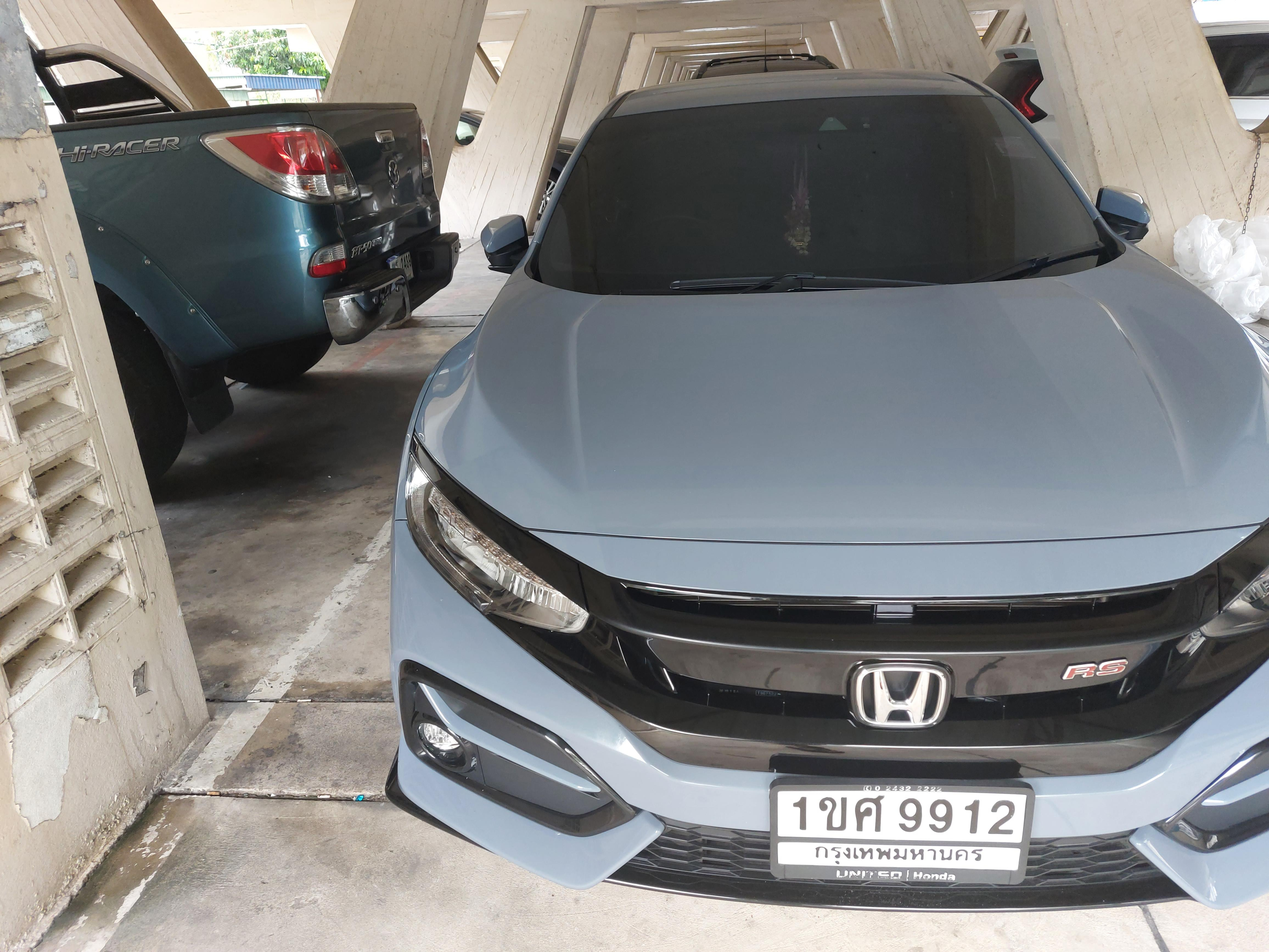license-plate: (766, 784, 1041, 880)
